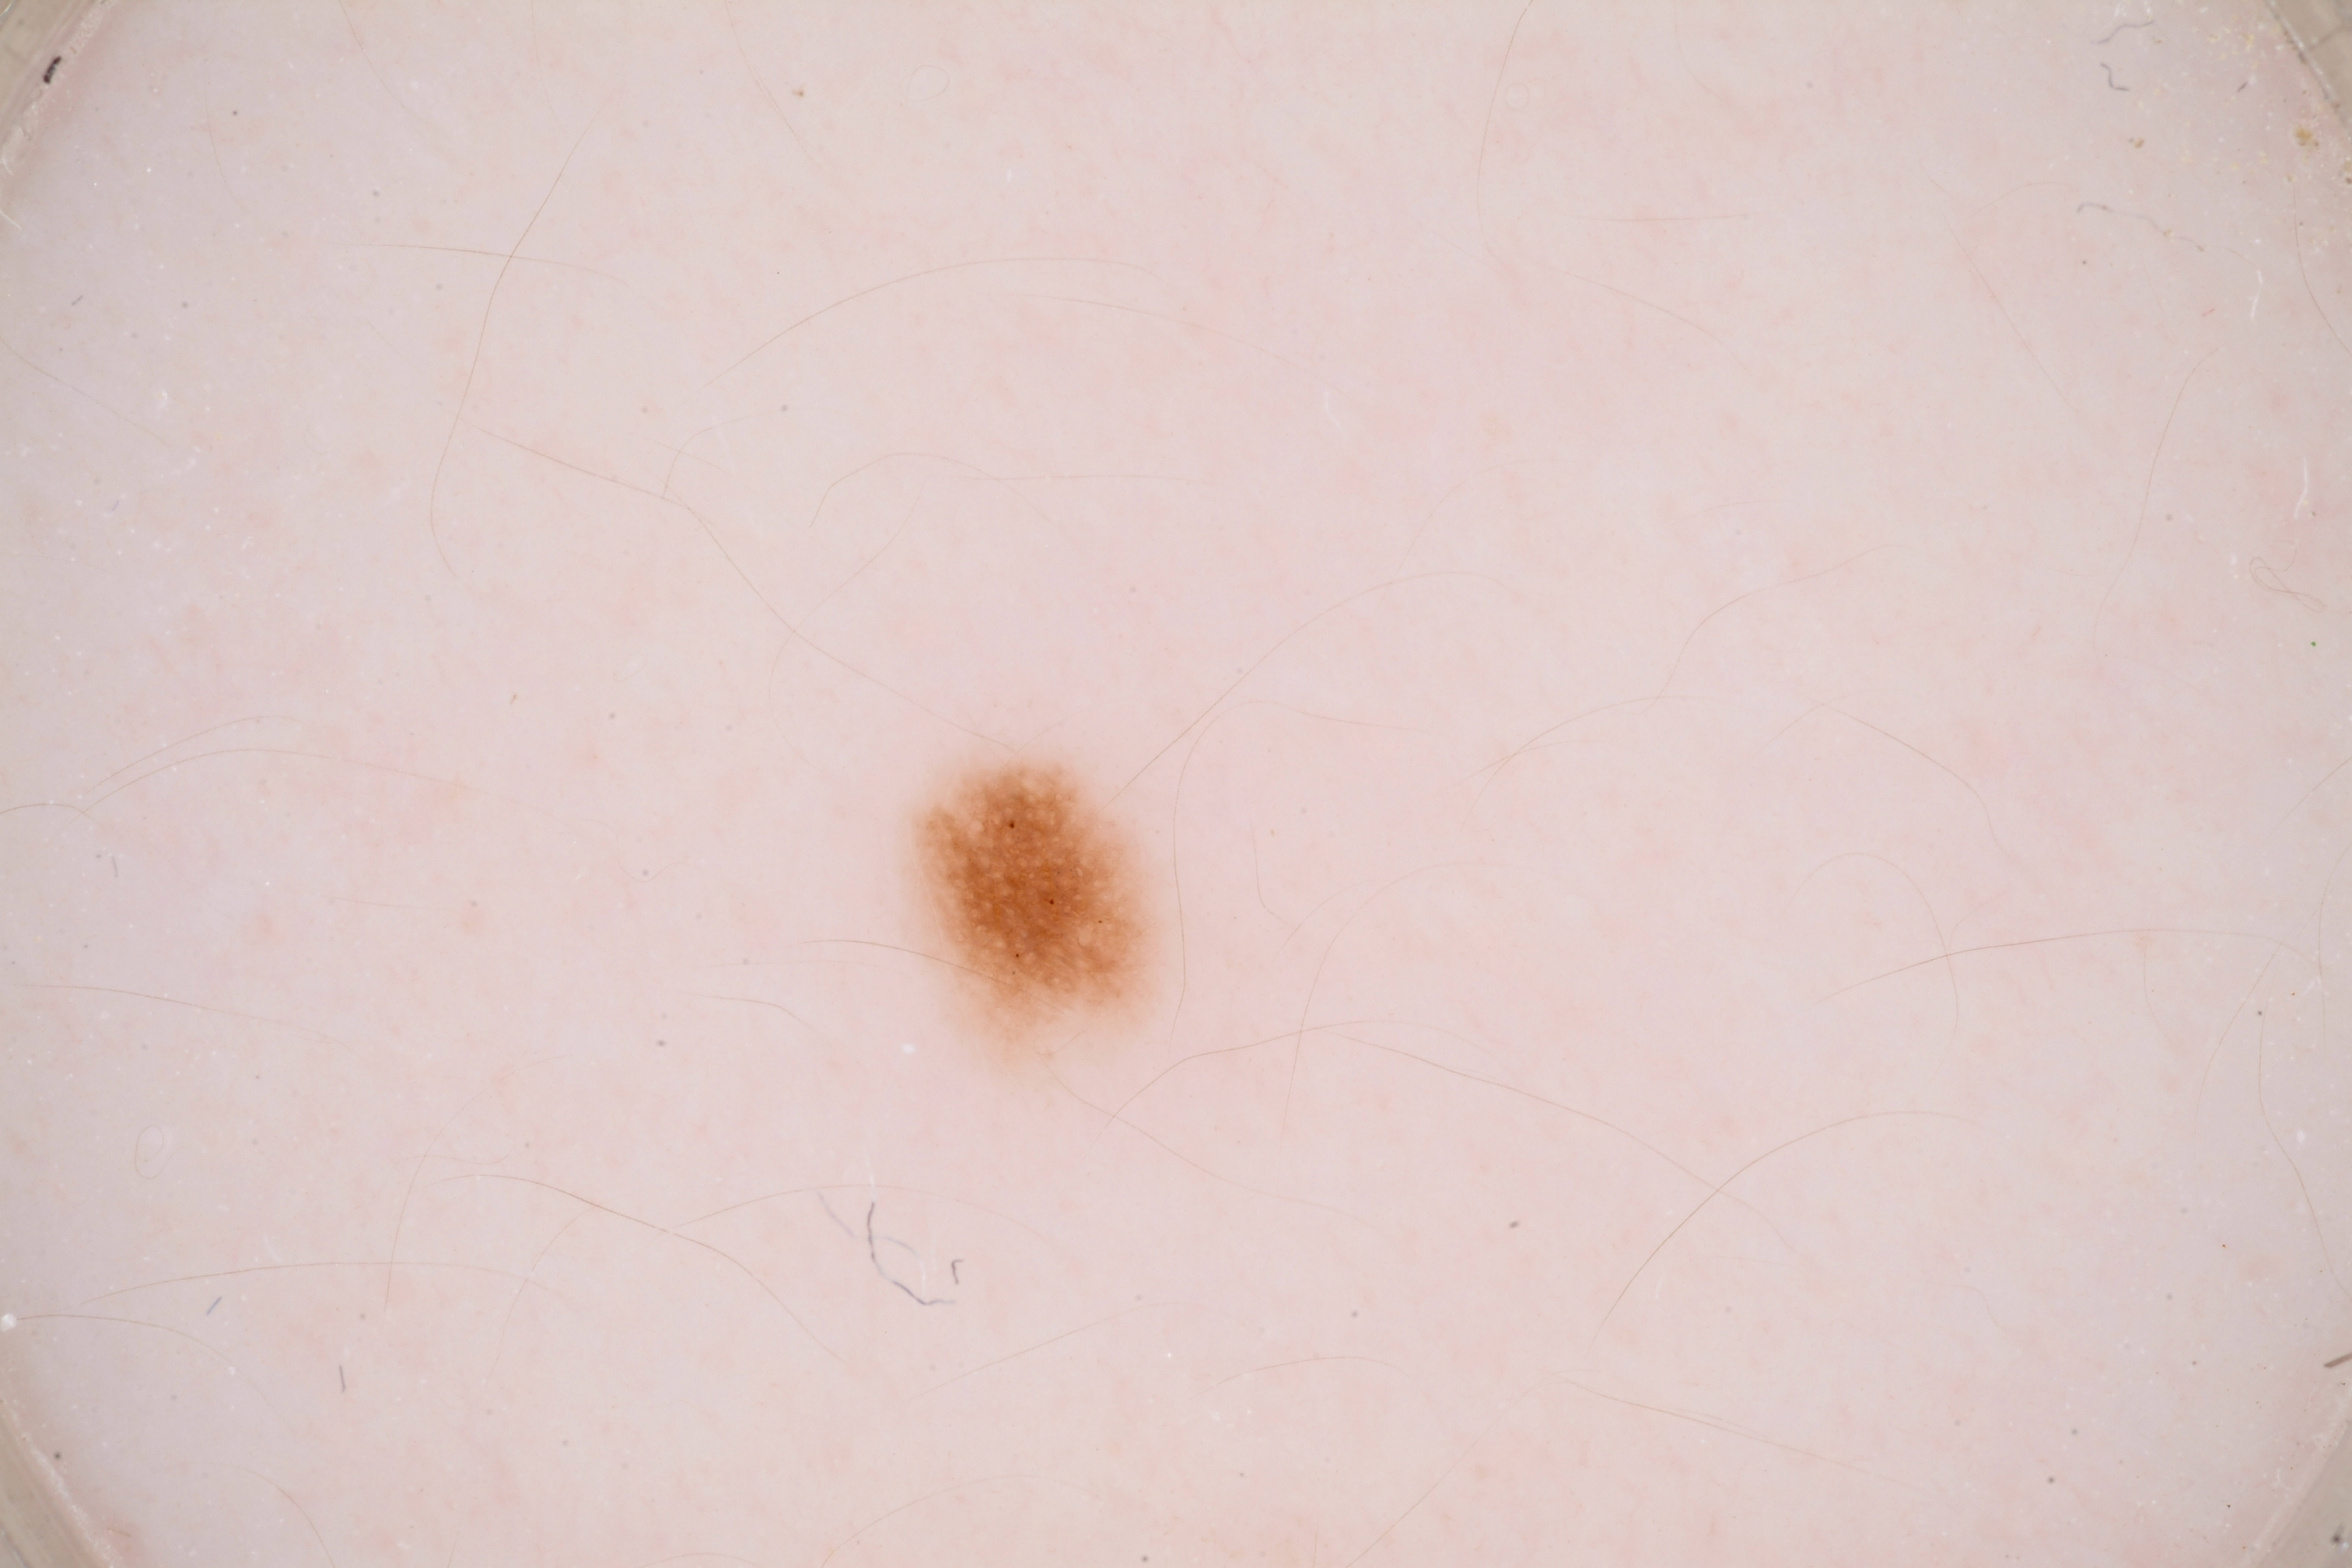Detected Lesion: (908, 761, 1169, 1039)
